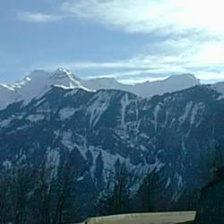neutral: (2, 8, 224, 222)
